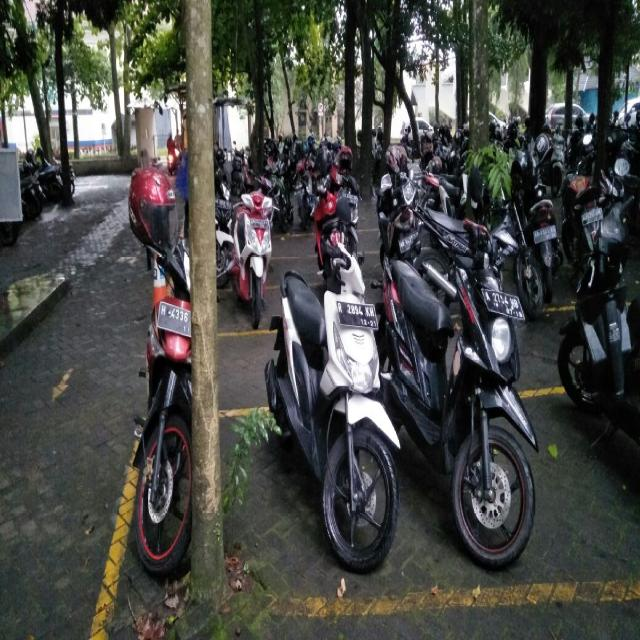plate: (478, 286, 526, 320), (156, 302, 191, 337), (336, 300, 378, 327)
